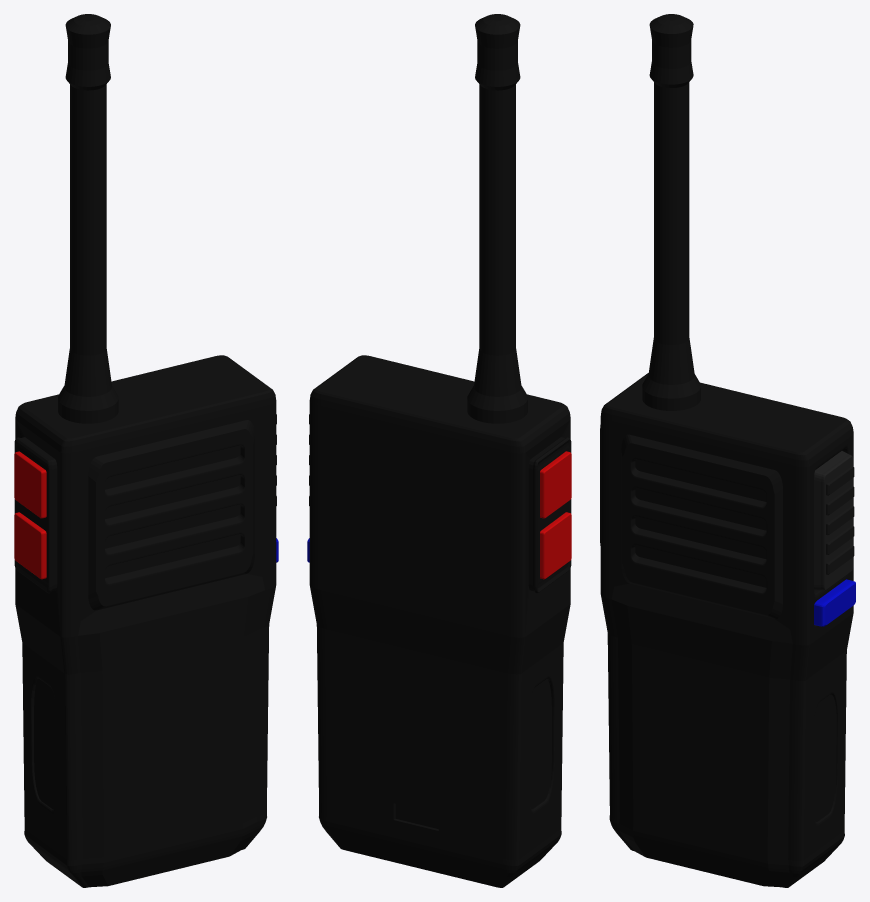
File: walkie_body.obj
The picture shows the model from 3 angles, left to right: view 1: azimuth 30°, elevation 25°; view 2: azimuth 150°, elevation 25°; view 3: azimuth 330°, elevation 25°; orthographic projection. The views are drawn at different scales.
Size of the model in its own units: 1.36 by 4.66 by 0.5484.
